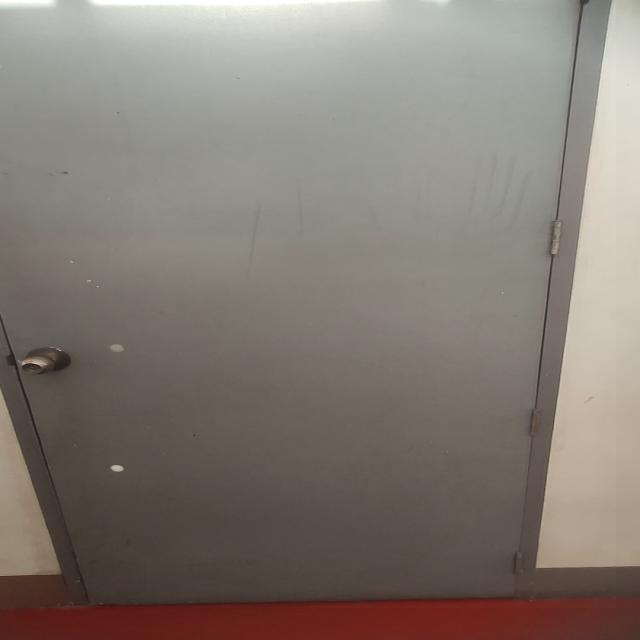door: (0, 0, 616, 608)
